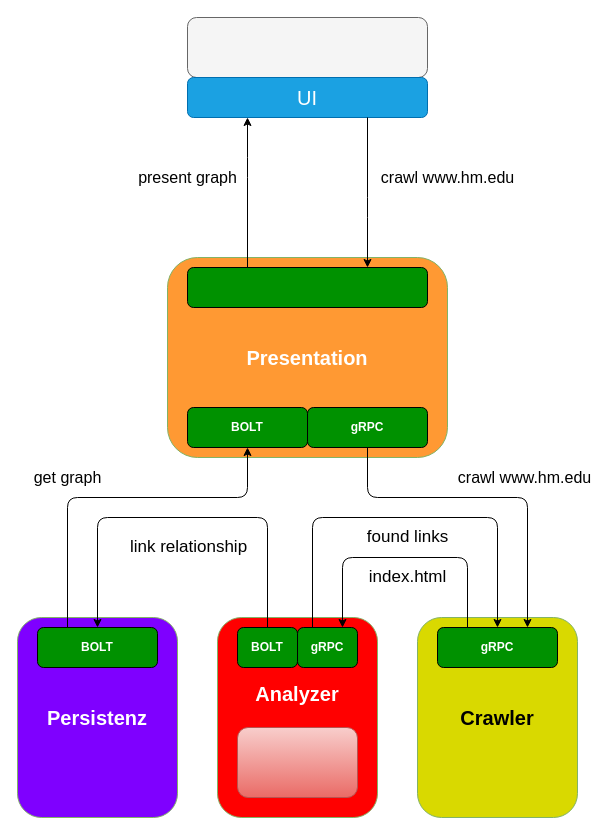
Some shapes in this 608 by 835 pixel diagram are drawn without their labels. The shapes that lost their labels are listed below. From the top down, each one's centre as x and y in pixels, then its label:
At point (307, 47): "Browser".
At point (307, 287): "REST API".
At point (297, 762): "Html2Tree Parser".
